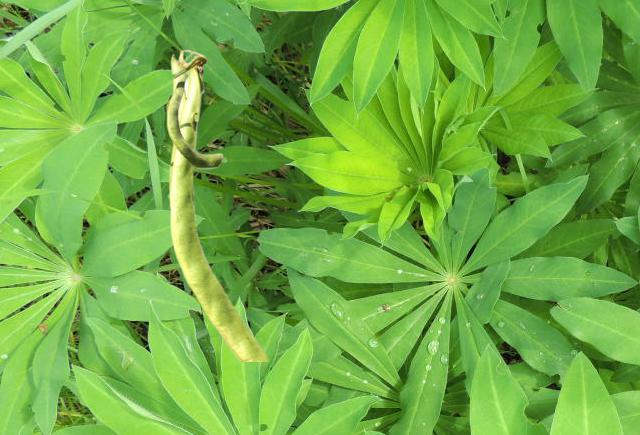french_bean: (165, 49, 268, 360)
